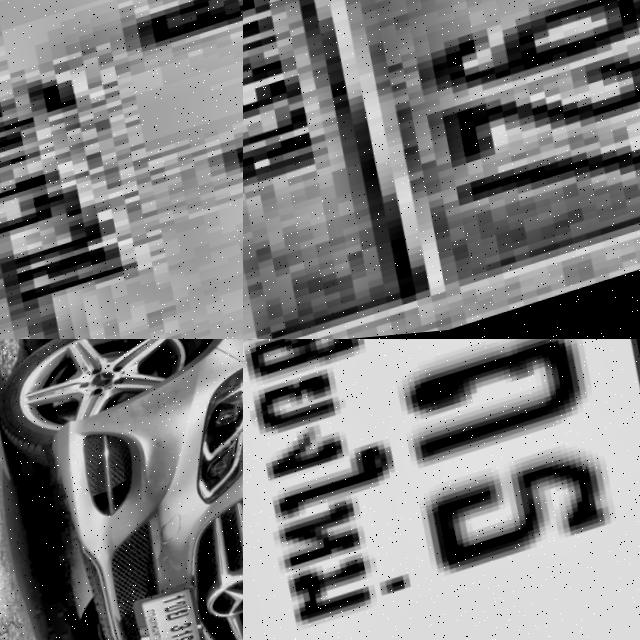license-plate: (243, 0, 640, 339), (243, 339, 640, 640), (0, 0, 243, 339), (139, 583, 213, 640)
